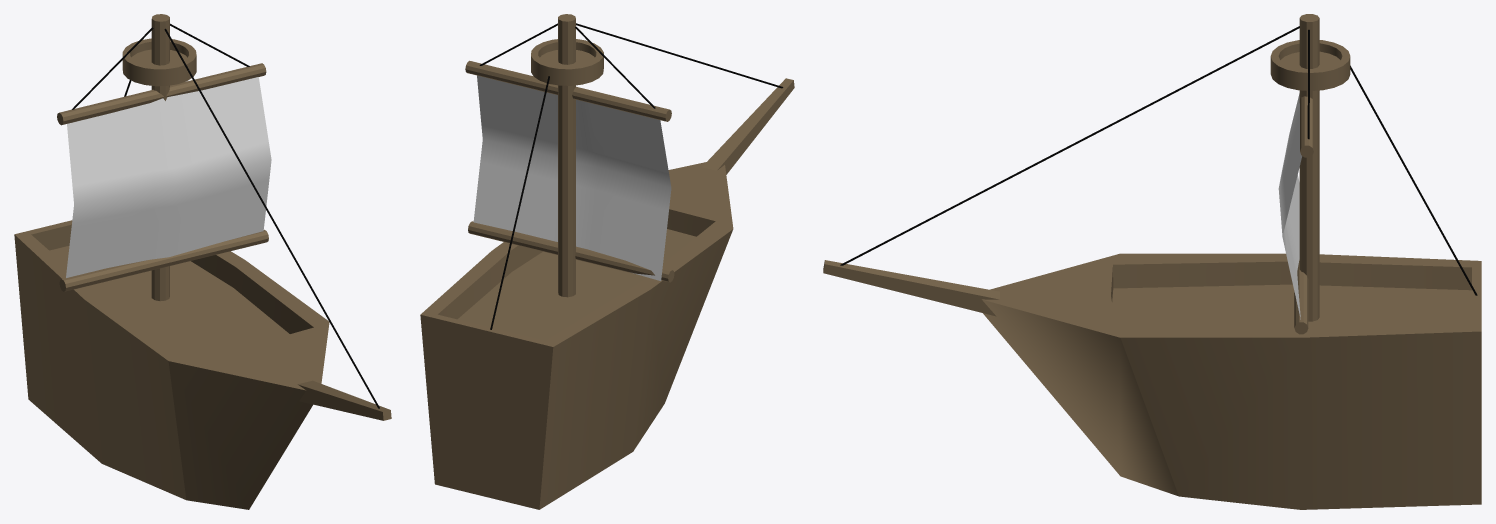
File: boat_export3.fbx
3 views of the same model, side by side, from view 1: azimuth 30°, elevation 25°; view 2: azimuth 150°, elevation 25°; view 3: azimuth 270°, elevation 25° (orthographic). The views are drawn at different scales.
Parts seen in each view (by area): view 1: pCube4; view 2: pCube4; view 3: pCube4.
Boxes of the visible parts, box(x1,y1,x2,y2) form: pCube4: box(14, 14, 391, 509); pCube4: box(420, 14, 794, 509); pCube4: box(823, 14, 1481, 509).
Size of the model in its own units: 1.26 by 2.54 by 3.3.
